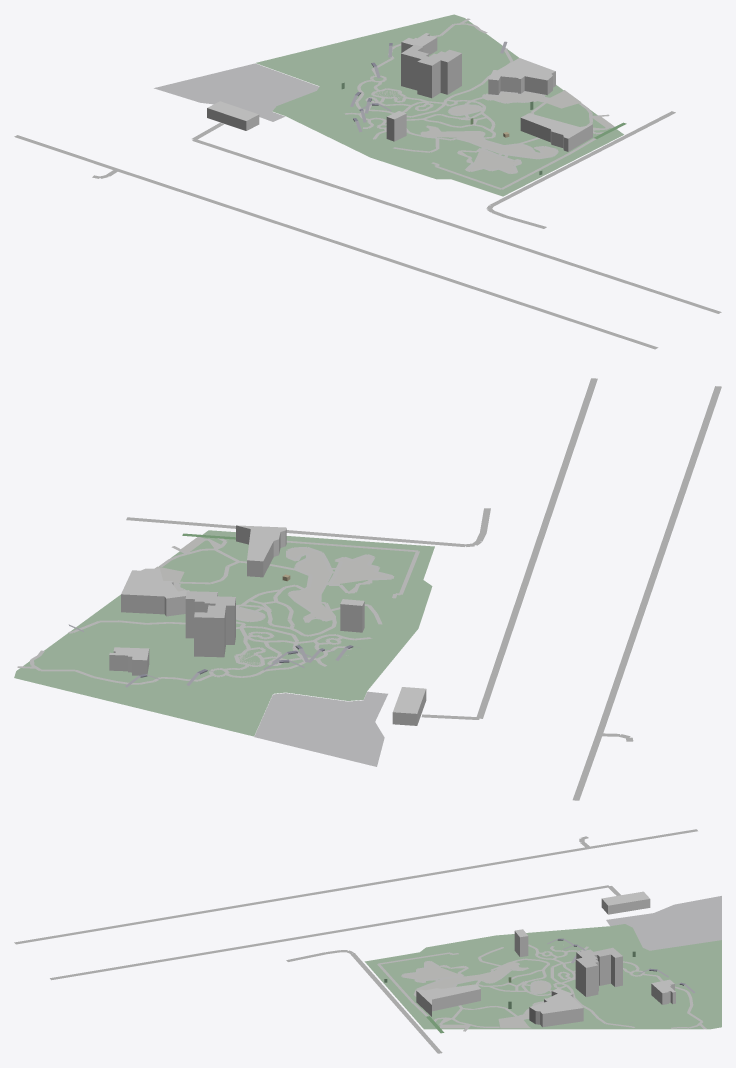
3 renders of one model, top to bottom at view 1: azimuth 30°, elevation 25°; view 2: azimuth 150°, elevation 25°; view 3: azimuth 270°, elevation 25°, orthographic. The views are drawn at different scales.
Bounding box in the file's own units: 520 × 32.89 × 685.
